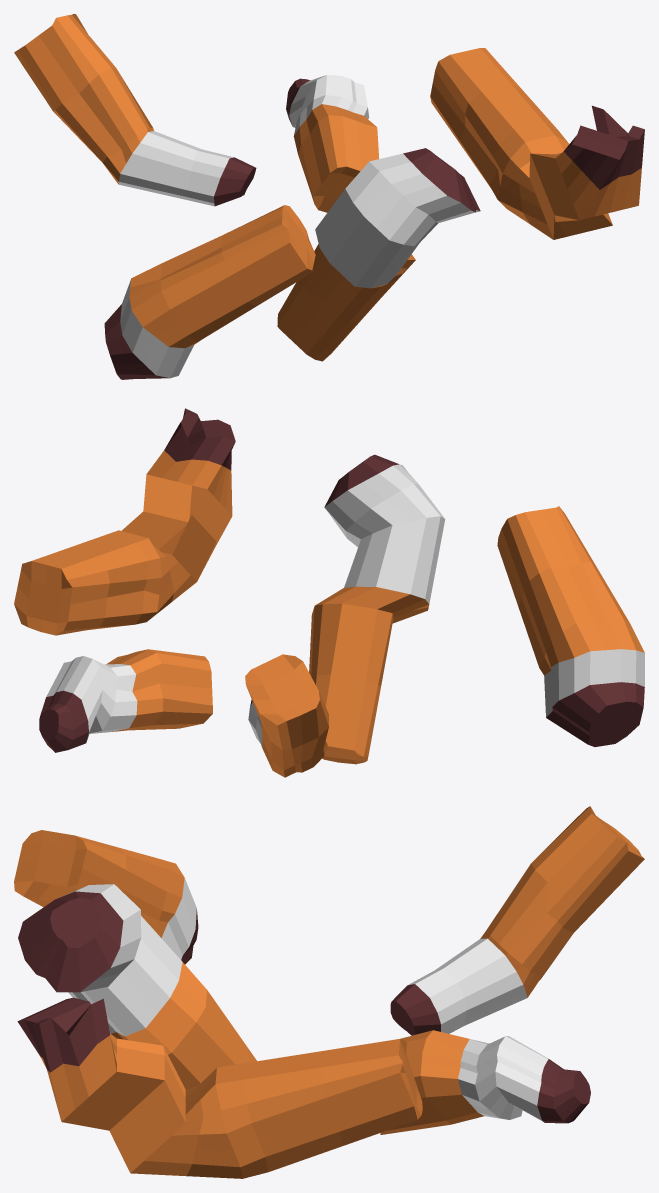
Rendered from CigBud1.fbx.
3 views of the same model, one above another, from view 1: azimuth 30°, elevation 25°; view 2: azimuth 150°, elevation 25°; view 3: azimuth 270°, elevation 25° (orthographic). The views are drawn at different scales.
Parts seen in each view (by area): view 1: Cigarette bud.058; view 2: Cigarette bud.058; view 3: Cigarette bud.058.
Boxes of the visible parts, left/top/right/bottom form: Cigarette bud.058: left=14, top=14, right=644, bottom=379; Cigarette bud.058: left=14, top=408, right=644, bottom=777; Cigarette bud.058: left=14, top=806, right=644, bottom=1178.
Size of the model in its own units: 1699 by 803 by 1608.
